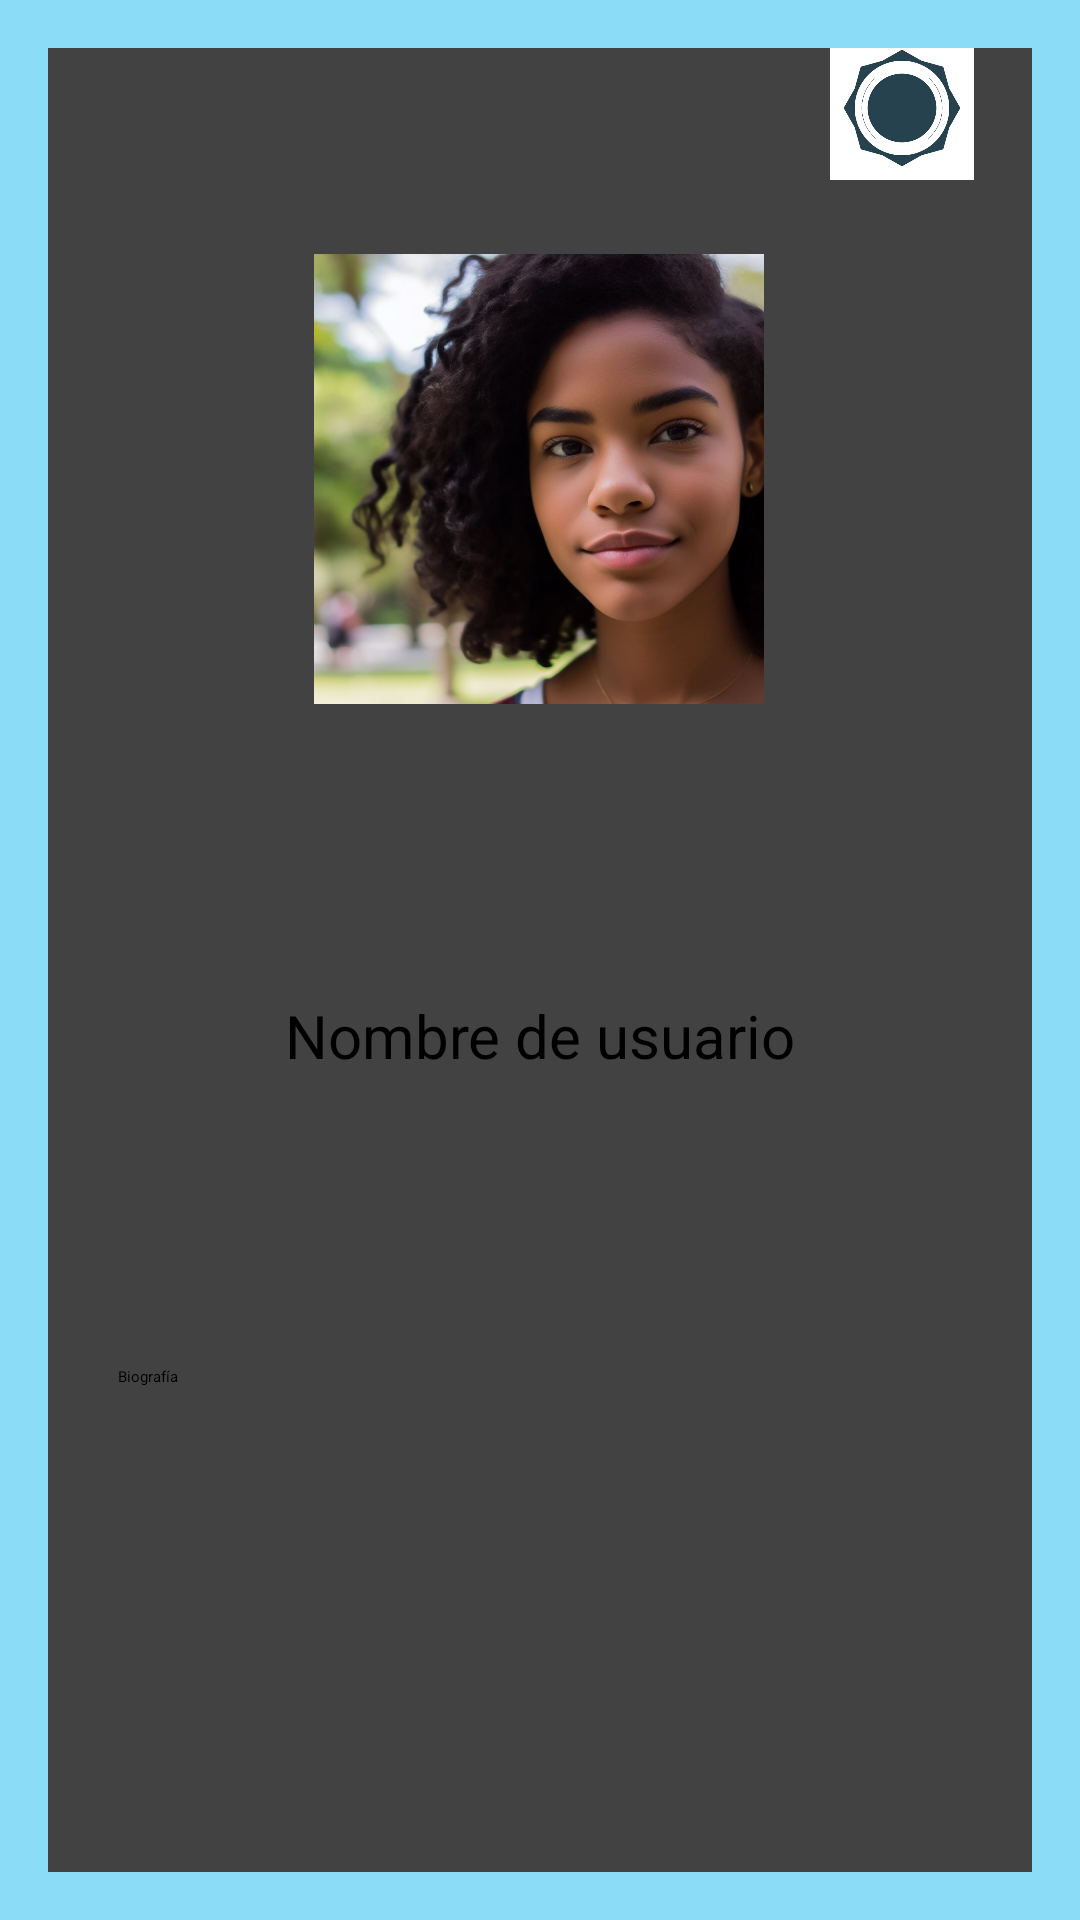

Icon click points for this 1080 × 1920 phone screenshot, format (x,y):
tuerca: (902,108)
